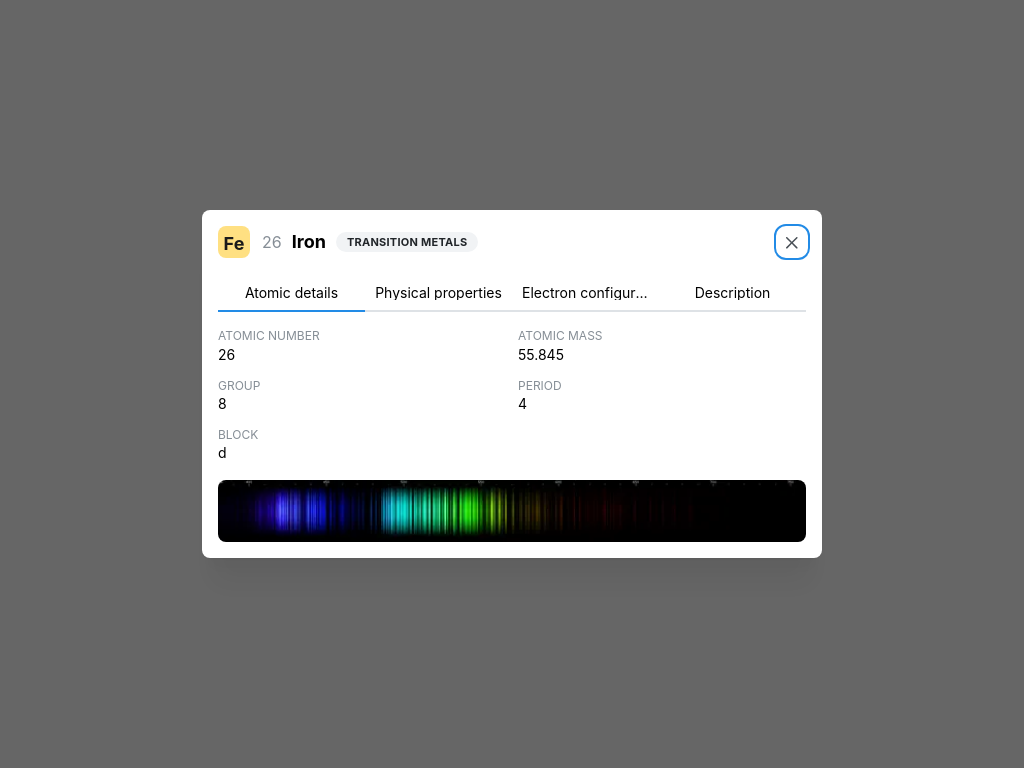
Test: ElementDetail › switches tabs: shows the selected panel, hides others, exactly one selected (4.3, 4.4)
Expected: the text "Block" is shown, x1=218 y1=427 x2=258 y2=442
Expected: the text "Phase" is not shown
Click the tab "Physical properties": (438, 293) x1=365 y1=274 x2=512 y2=312
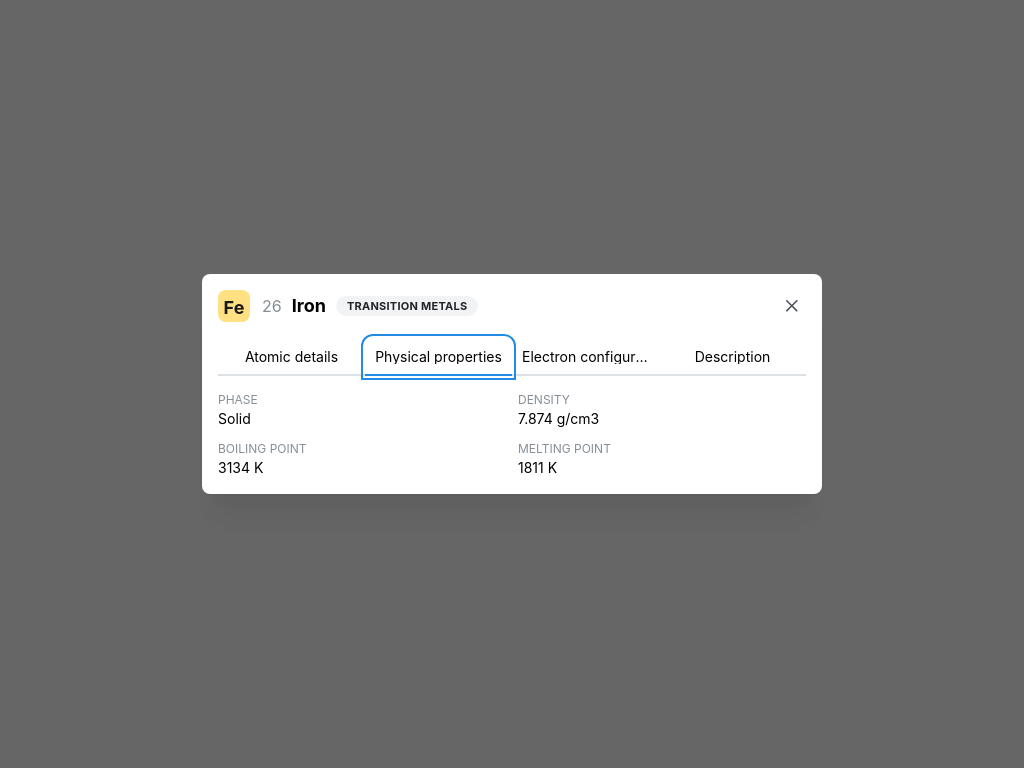
Now the text "Phase" is shown, box x1=218 y1=392 x2=258 y2=407
Now the text "Block" is gone
